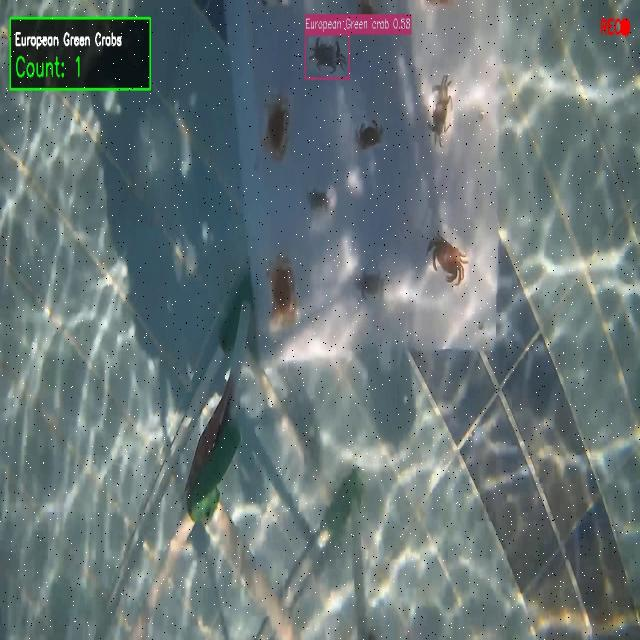European_Green_Crab: (424, 64, 457, 155), (308, 35, 348, 84), (353, 258, 385, 305), (301, 181, 331, 216)
